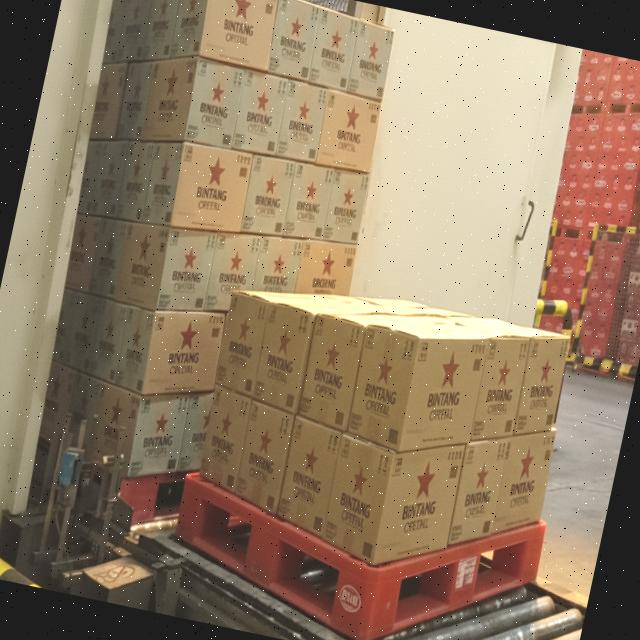pallet: (0, 0, 413, 559), (149, 238, 597, 640)
